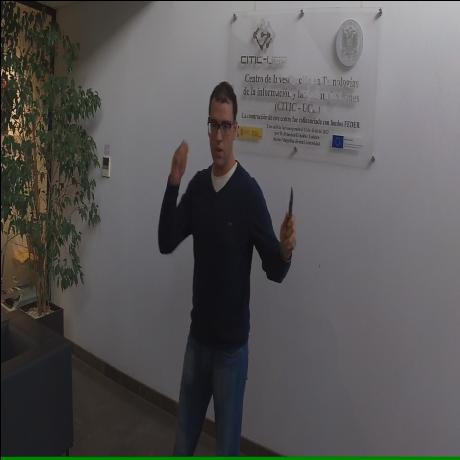1: (157, 81, 286, 444)
weapon: (284, 184, 294, 249)
